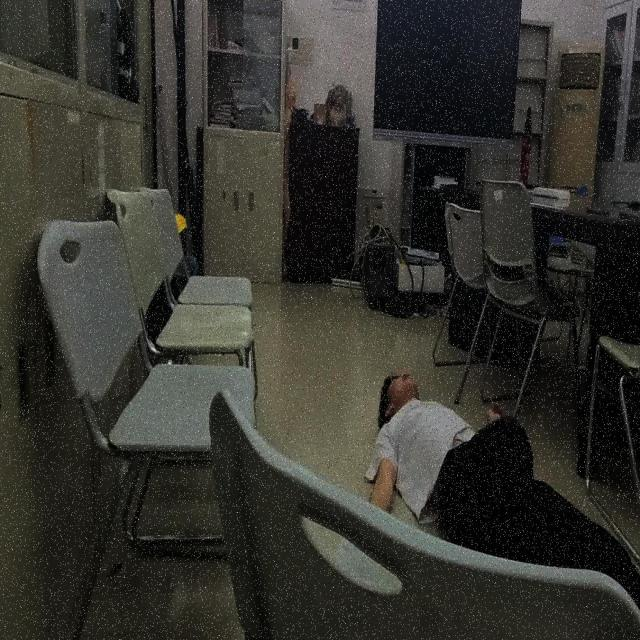fall: (363, 367, 640, 639)
